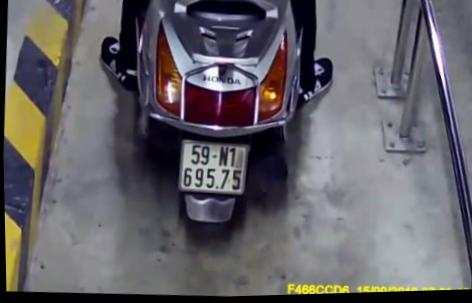LP: (175, 138, 249, 200)
